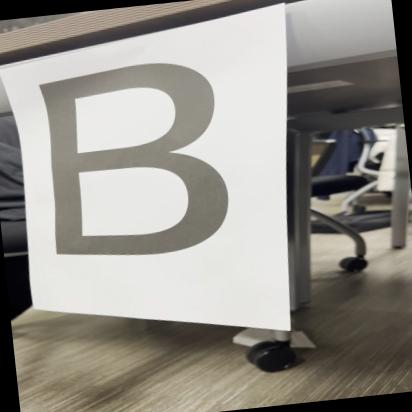seat: (9, 46, 263, 290)
